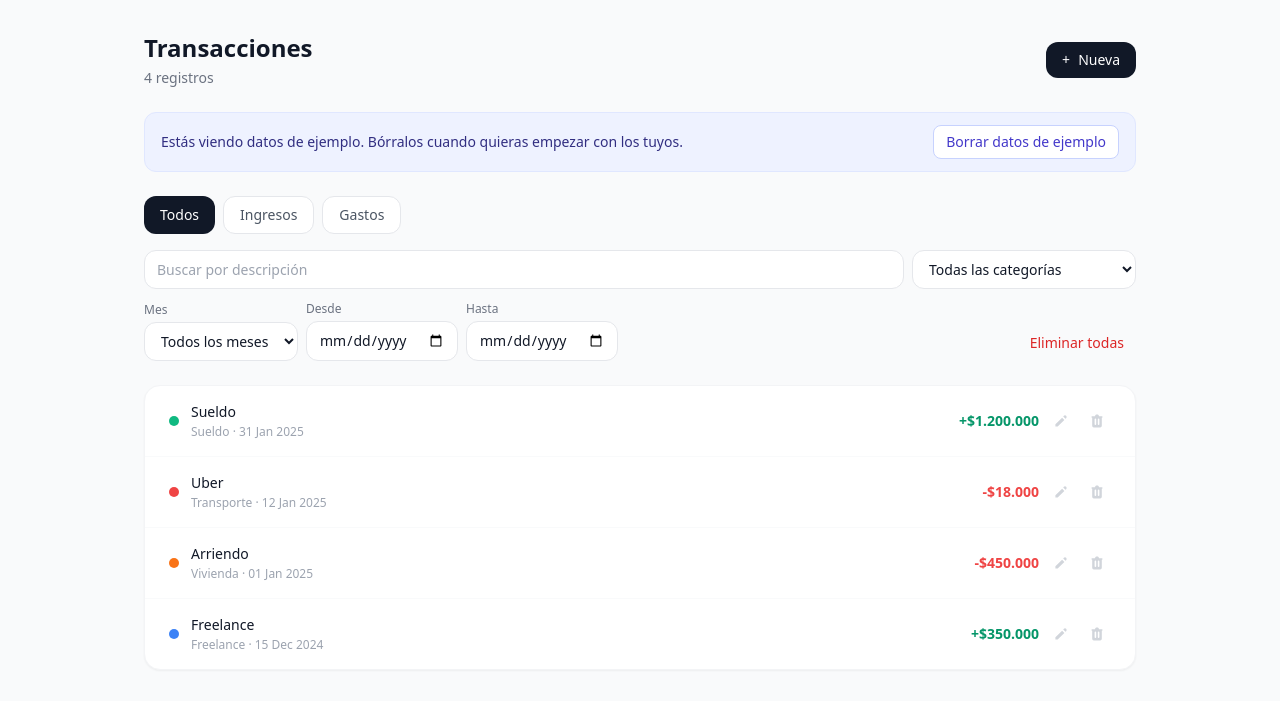
Test: TransactionsComponent › date range and pagination › should keep only transactions within the inclusive range
The image size is (1280, 701).
Type "2025-01-01" into the date field with id "date-from". click: [382, 341]
box: top-left (306, 321), bottom-right (458, 361)
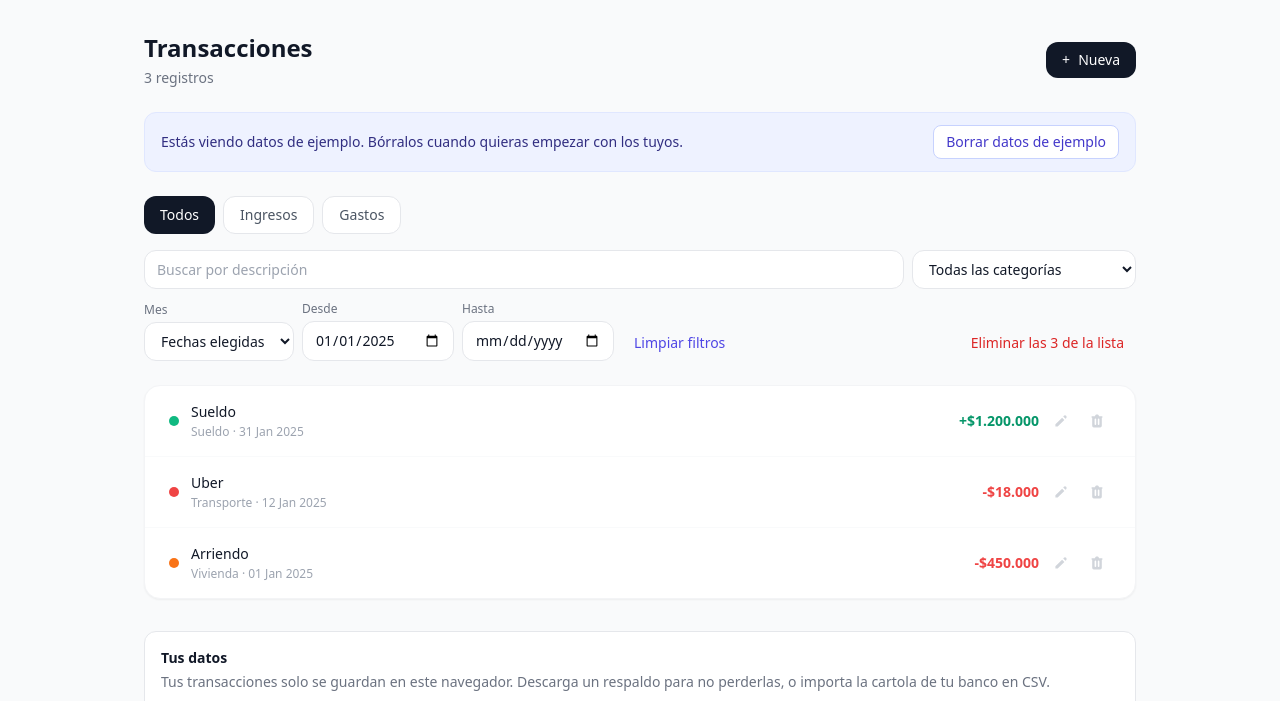
Type "2025-01-12" into the date field with id "date-to". click: [538, 341]
box: top-left (462, 321), bottom-right (614, 361)
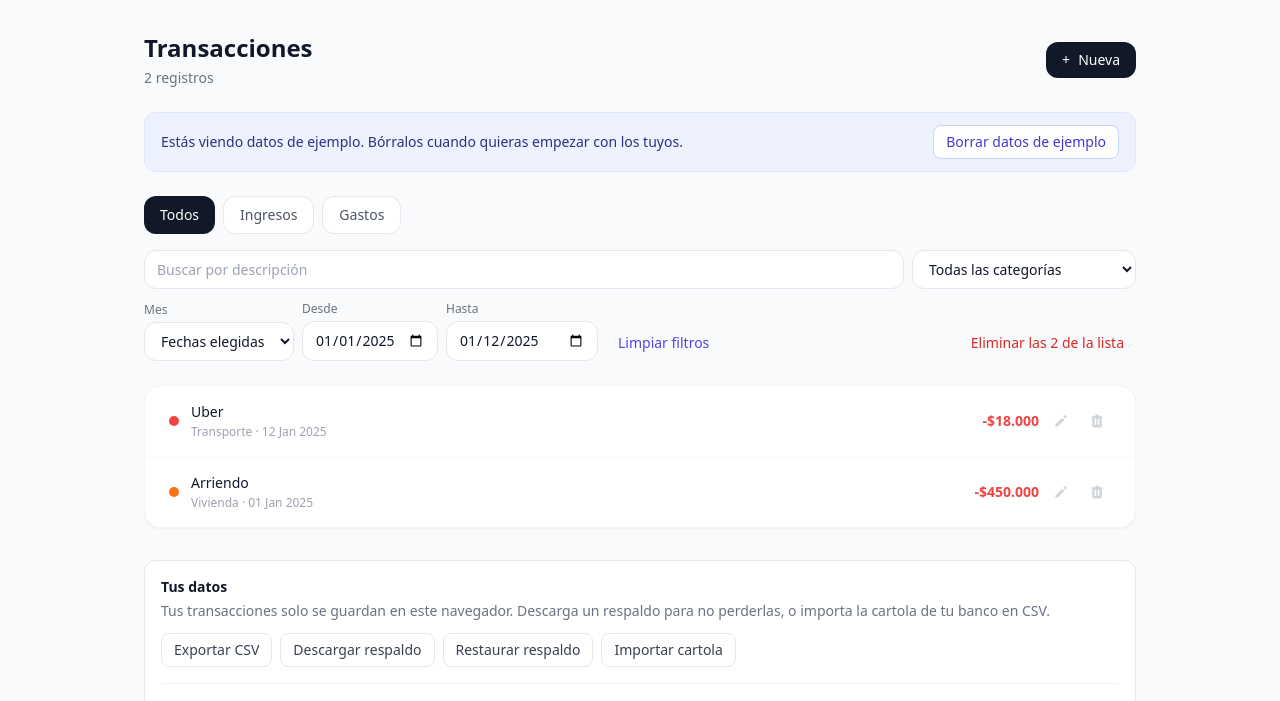
expect the text "2 registros" is shown: met, box top-left (144, 68), bottom-right (214, 87)
